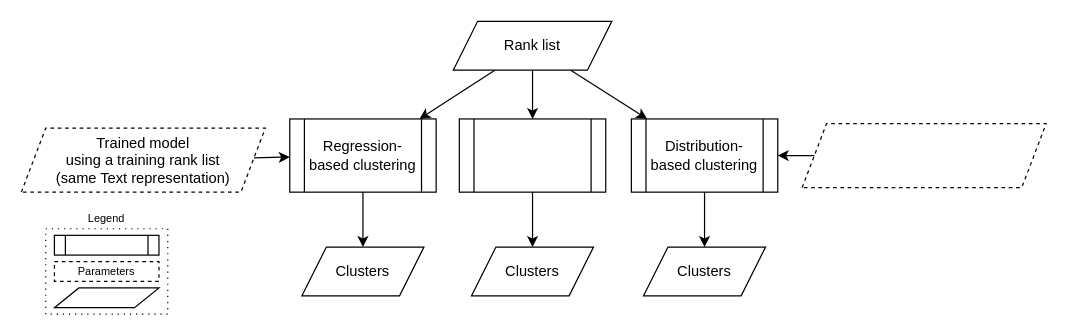
The diagram is 1068 pixels wide and 336 high, and some of its shapes have lost their labels. Here are the shapes that lost their labels. From the top down, the box of each, then its label:
(458, 118, 606, 192): Silhouette-based clustering
(801, 122, 1046, 188): Distance threshold value using a training rank list (same Text representation)
(53, 234, 159, 255): Process
(53, 287, 159, 308): Input / Output
